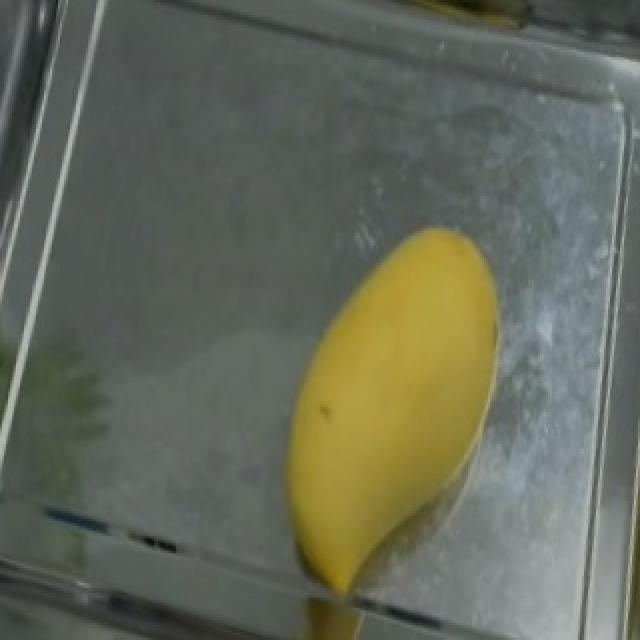fruit: (266, 208, 526, 568)
